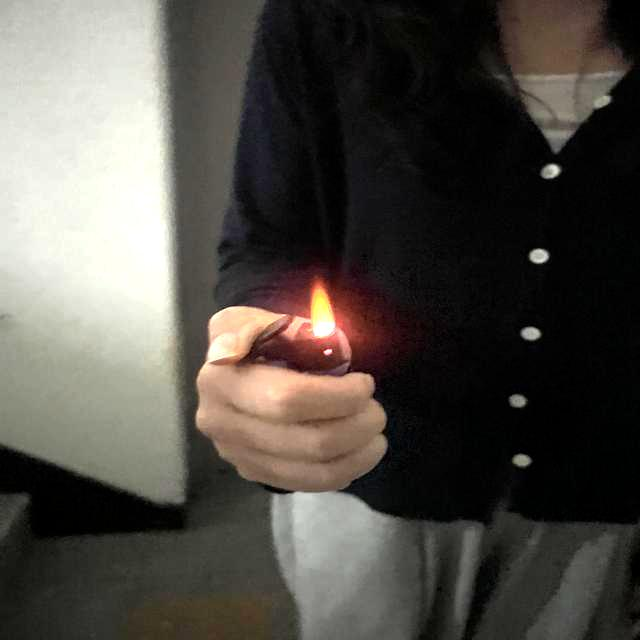fire: (309, 282, 335, 331)
